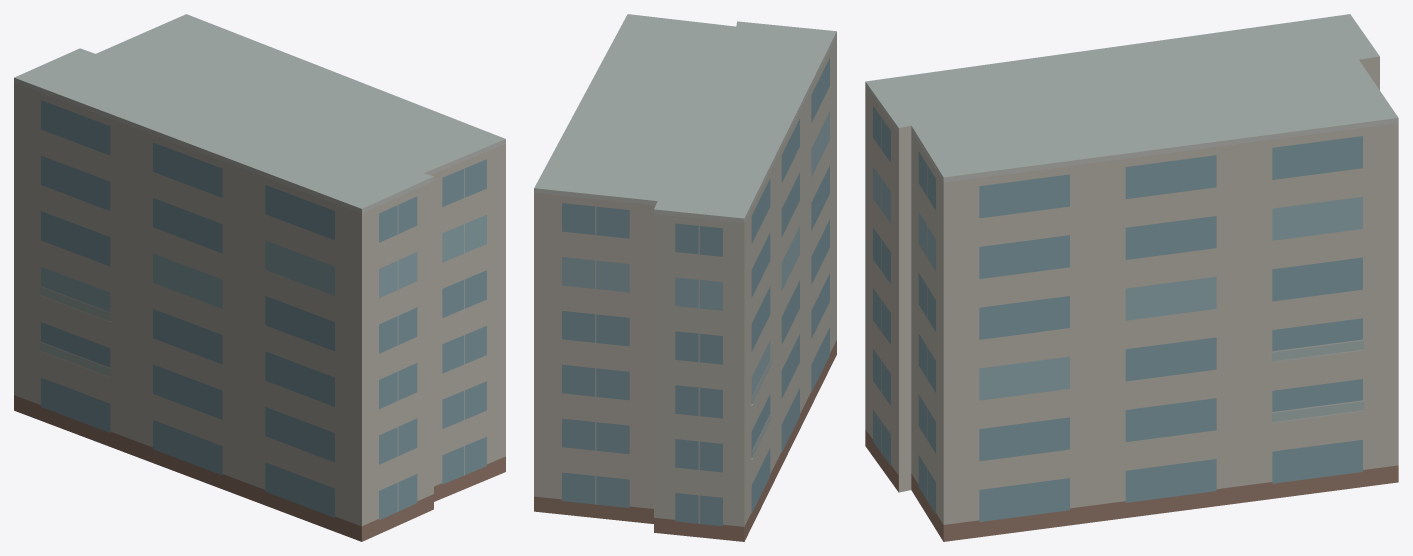
Rendered from survey-upis-32560875.glb.
The picture shows the model from 3 angles, left to right: view 1: azimuth 30°, elevation 25°; view 2: azimuth 150°, elevation 25°; view 3: azimuth 270°, elevation 25°; orthographic projection. The views are drawn at different scales.
Visible parts, largest first — view 1: survey-upis-32560875.tmp; view 2: survey-upis-32560875.tmp; view 3: survey-upis-32560875.tmp.
Boxes of the visible parts, x1,y1,x2,y2 form: survey-upis-32560875.tmp: [14, 14, 505, 541]; survey-upis-32560875.tmp: [534, 14, 836, 541]; survey-upis-32560875.tmp: [865, 14, 1398, 541].
Bounding box in the file's own units: 16.55 × 17.2 × 22.82.
